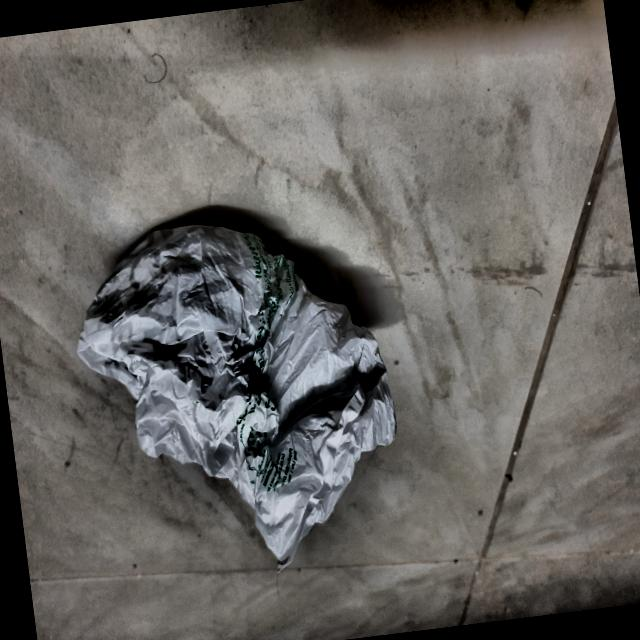plastic bag: (46, 190, 416, 602)
